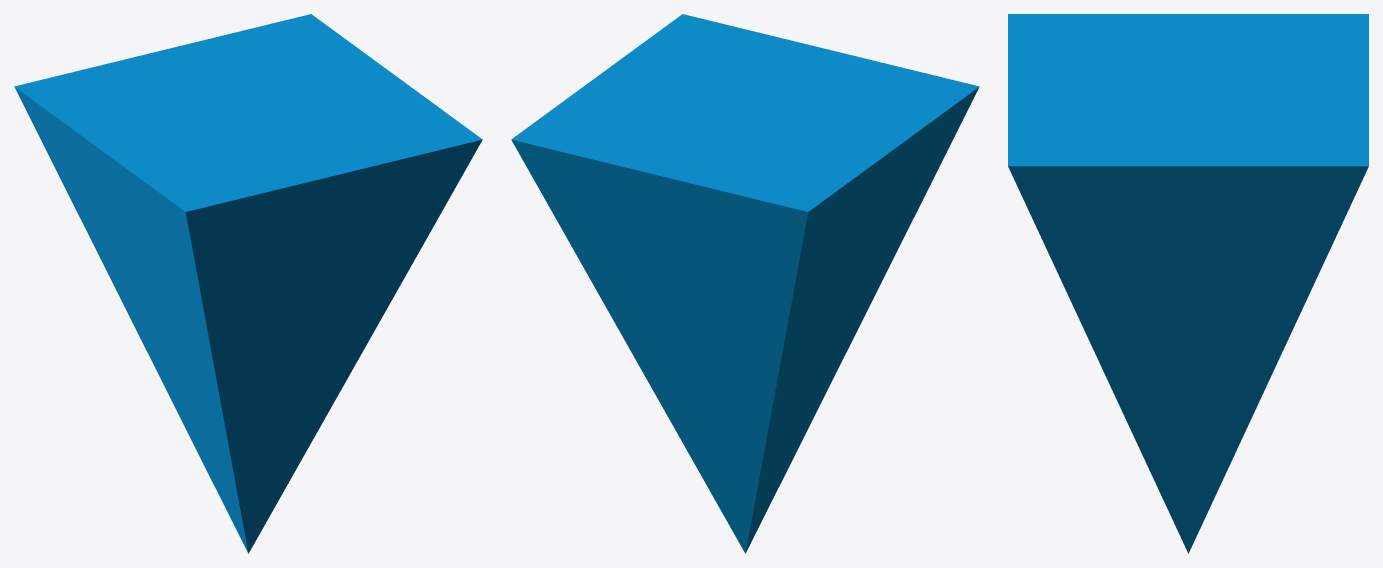
Rendered from start.fbx.
3 views of the same model, side by side, from view 1: azimuth 30°, elevation 25°; view 2: azimuth 150°, elevation 25°; view 3: azimuth 270°, elevation 25° (orthographic). The views are drawn at different scales.
Parts seen in each view (by area): view 1: root; view 2: root; view 3: root.
Part boxes in pixels (box(x1,y1,x2,y2)): root: box(14, 14, 482, 553); root: box(511, 14, 979, 553); root: box(1008, 14, 1368, 553).
Bounding box in the file's own units: 0.2456 × 0.3483 × 0.2456.
Materials: 1 (1 with a texture image).
